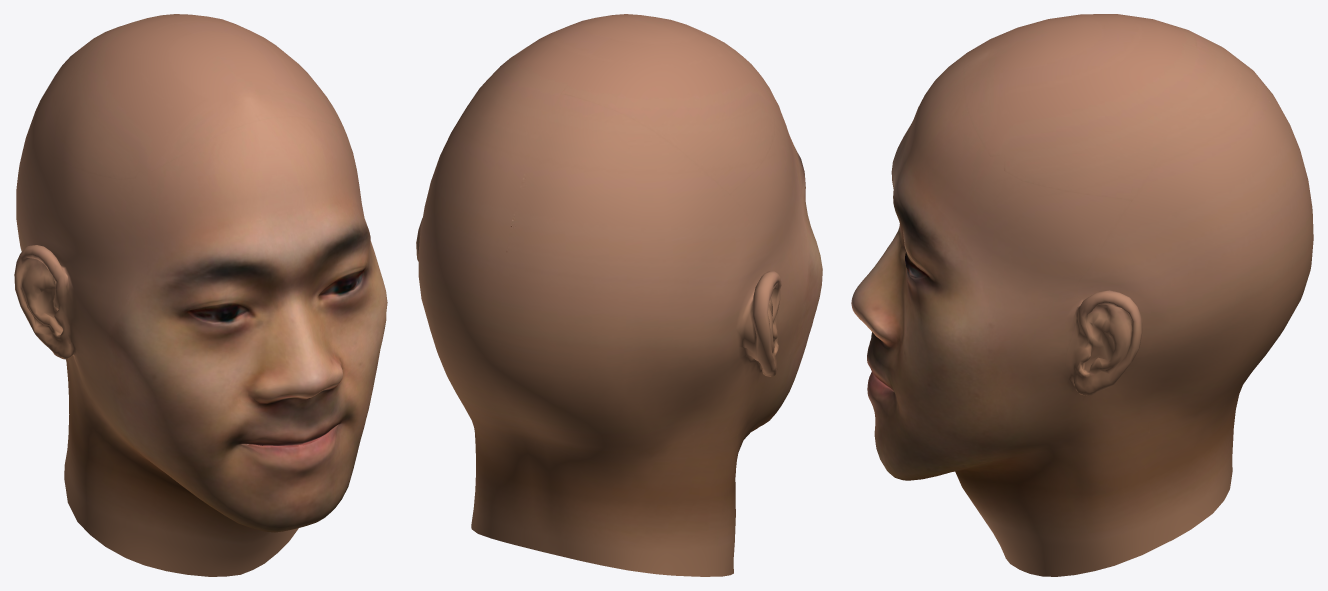
The picture shows the model from 3 angles, left to right: view 1: azimuth 30°, elevation 25°; view 2: azimuth 150°, elevation 25°; view 3: azimuth 270°, elevation 25°; orthographic projection. The views are drawn at different scales.
Visible parts, largest first — view 1: HeadHires; view 2: HeadHires; view 3: HeadHires.
Part boxes in pixels (bbox=[...]): HeadHires: bbox=[14, 14, 387, 576]; HeadHires: bbox=[416, 14, 822, 576]; HeadHires: bbox=[851, 14, 1313, 576].
Bounding box in the file's own units: 190 × 284 × 227.
Materials: 1 (1 with a texture image).
